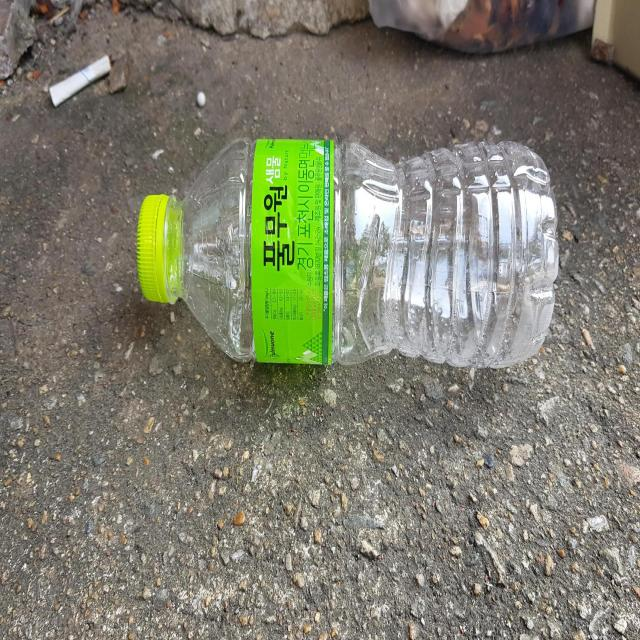plastic: (137, 138, 559, 367)
